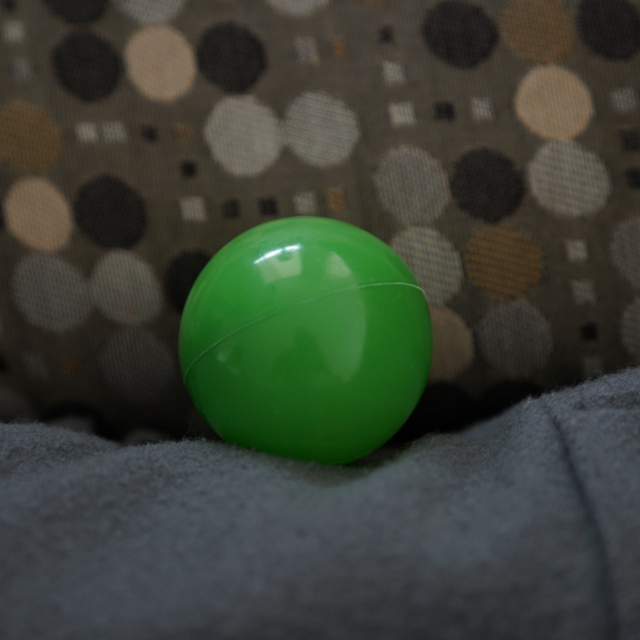Ball: (179, 217, 434, 469)
